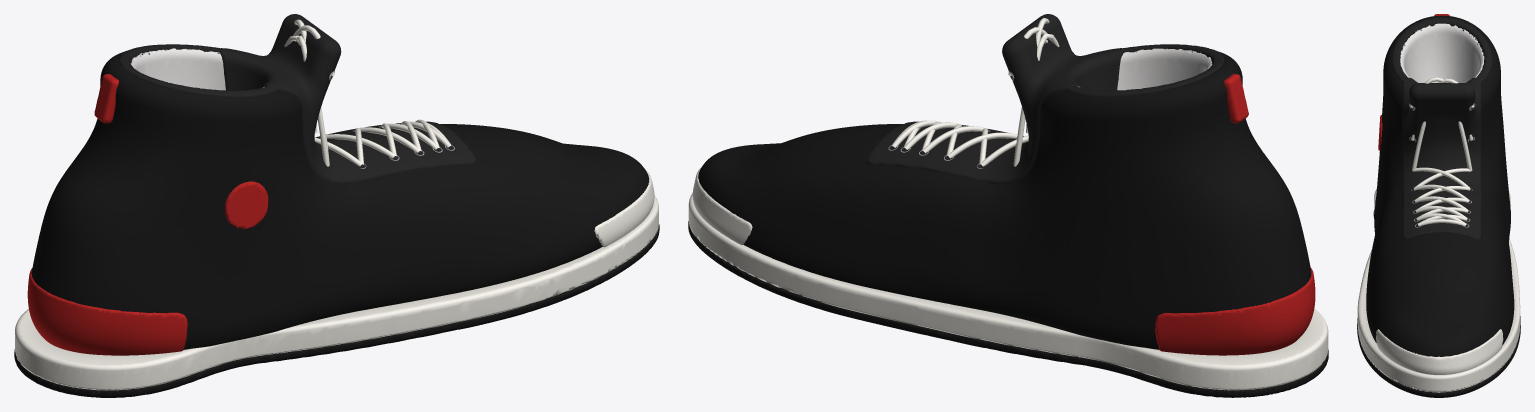
Rendered from phantom-high-top.glb.
3 renders of one model, left to right at view 1: azimuth 30°, elevation 25°; view 2: azimuth 150°, elevation 25°; view 3: azimuth 270°, elevation 25°, orthographic. The views are drawn at different scales.
Parts seen in each view (by area): view 1: upper, midsole, eyestay, heel_counter, outsole, laces, lining, collar, ankle_patch, toe_cap, heel_tab; view 2: upper, midsole, eyestay, heel_counter, outsole, laces, lining, collar, toe_cap, heel_tab; view 3: upper, eyestay, midsole, lining, laces, toe_cap, collar, outsole.
Part boxes in pixels (x1=…): upper: x1=31, y1=49, x2=649, y2=349; midsole: x1=15, y1=196, x2=658, y2=390; eyestay: x1=219, y1=14, x2=475, y2=184; heel_counter: x1=27, y1=268, x2=187, y2=355; outsole: x1=14, y1=224, x2=659, y2=397; laces: x1=284, y1=19, x2=454, y2=168; lining: x1=130, y1=48, x2=264, y2=90; collar: x1=118, y1=44, x2=277, y2=97; ankle_patch: x1=224, y1=181, x2=268, y2=228; toe_cap: x1=594, y1=170, x2=654, y2=247; heel_tab: x1=94, y1=74, x2=118, y2=123; upper: x1=698, y1=49, x2=1311, y2=349; midsole: x1=688, y1=193, x2=1328, y2=390; eyestay: x1=867, y1=14, x2=1123, y2=184; heel_counter: x1=1155, y1=267, x2=1315, y2=355; outsole: x1=688, y1=221, x2=1328, y2=397; laces: x1=888, y1=18, x2=1059, y2=168; lining: x1=1078, y1=48, x2=1212, y2=90; collar: x1=1065, y1=44, x2=1224, y2=97; toe_cap: x1=692, y1=168, x2=752, y2=245; heel_tab: x1=1224, y1=74, x2=1248, y2=123; upper: x1=1366, y1=15, x2=1514, y2=356; eyestay: x1=1402, y1=77, x2=1481, y2=239; midsole: x1=1357, y1=188, x2=1520, y2=392; lining: x1=1400, y1=23, x2=1484, y2=82; laces: x1=1409, y1=77, x2=1475, y2=227; toe_cap: x1=1376, y1=329, x2=1503, y2=374; collar: x1=1391, y1=17, x2=1492, y2=82; outsole: x1=1357, y1=209, x2=1520, y2=397.
Bounding box in the file's own units: 0.9796 × 0.4344 × 0.3115.
